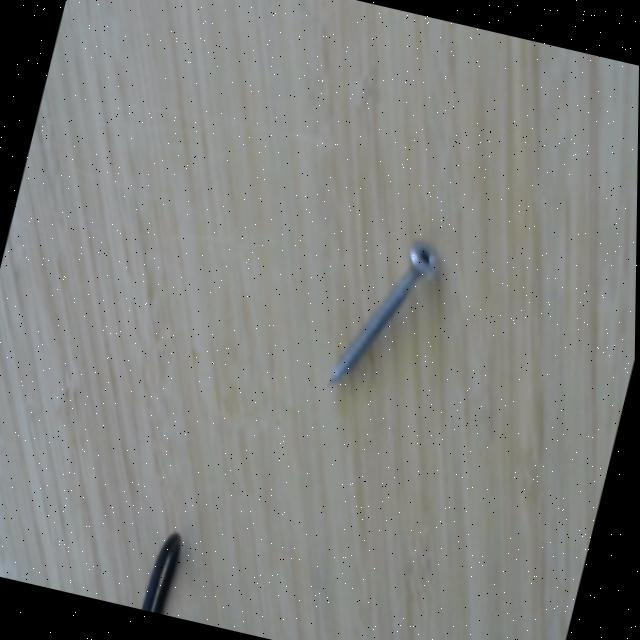Black screw: (318, 229, 453, 398)
